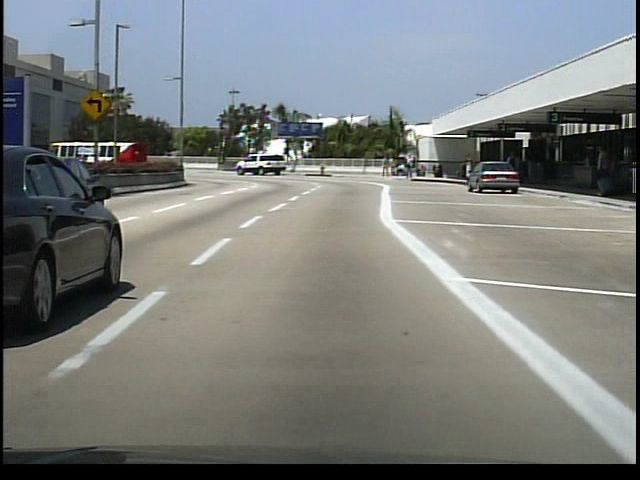person: (590, 142, 613, 201), (504, 148, 521, 186), (463, 152, 479, 184), (406, 150, 416, 182), (382, 153, 391, 177), (389, 154, 397, 178)
